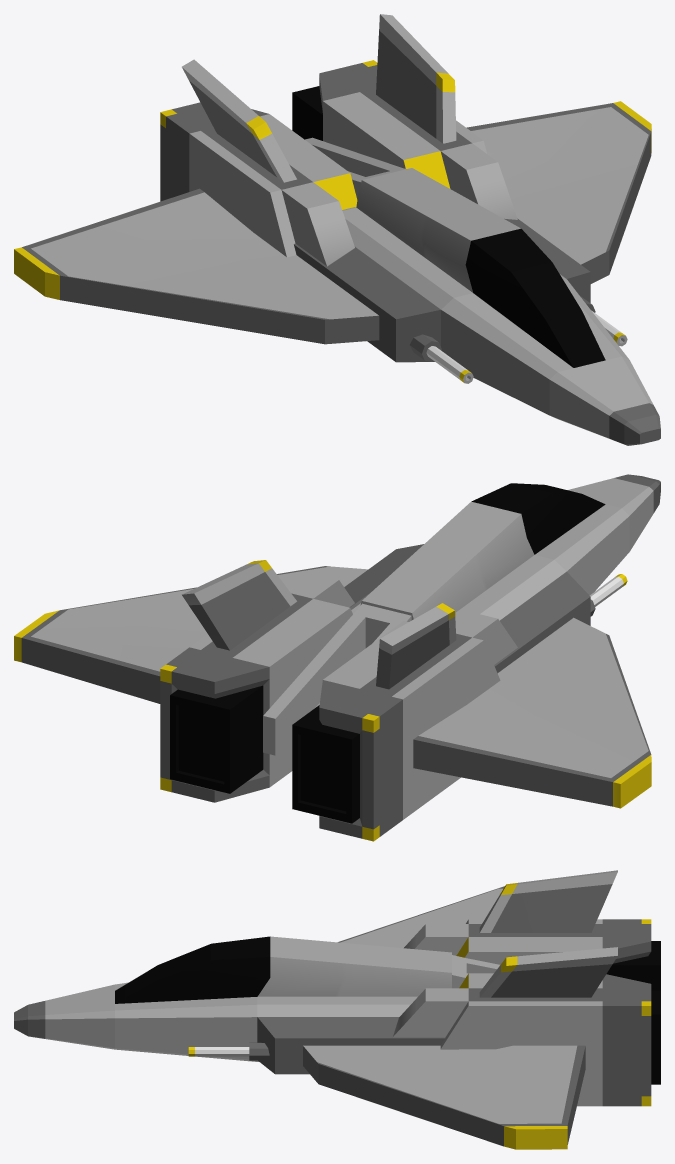
File: sentouki_gray.fbx
The picture shows the model from 3 angles, top to bottom: view 1: azimuth 30°, elevation 25°; view 2: azimuth 150°, elevation 25°; view 3: azimuth 270°, elevation 25°; orthographic projection. The views are drawn at different scales.
Visible parts, largest first — view 1: pCylinder18; view 2: pCylinder18; view 3: pCylinder18.
Boxes of the visible parts, box(x1,y1,x2,y2) form: pCylinder18: box(14, 14, 660, 445); pCylinder18: box(14, 474, 660, 841); pCylinder18: box(14, 870, 660, 1149).
Bounding box in the file's own units: 15.08 × 4.39 × 16.76.
